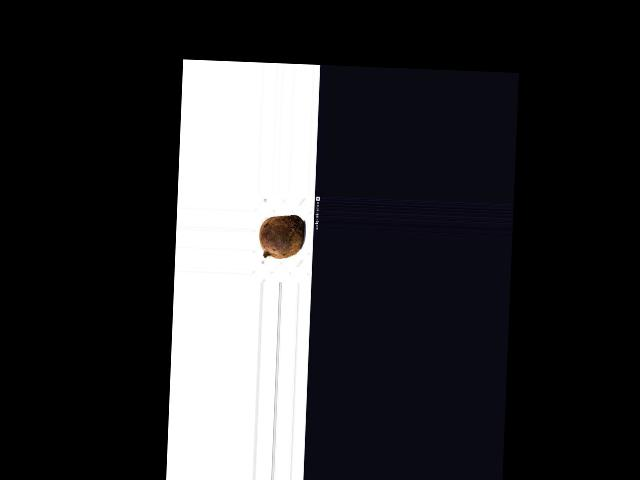beet: (258, 214, 305, 260)
